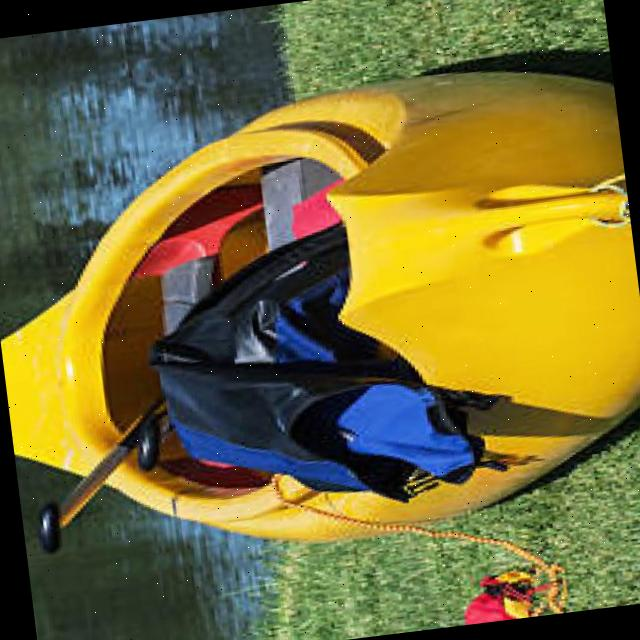kayak: (0, 70, 640, 540)
